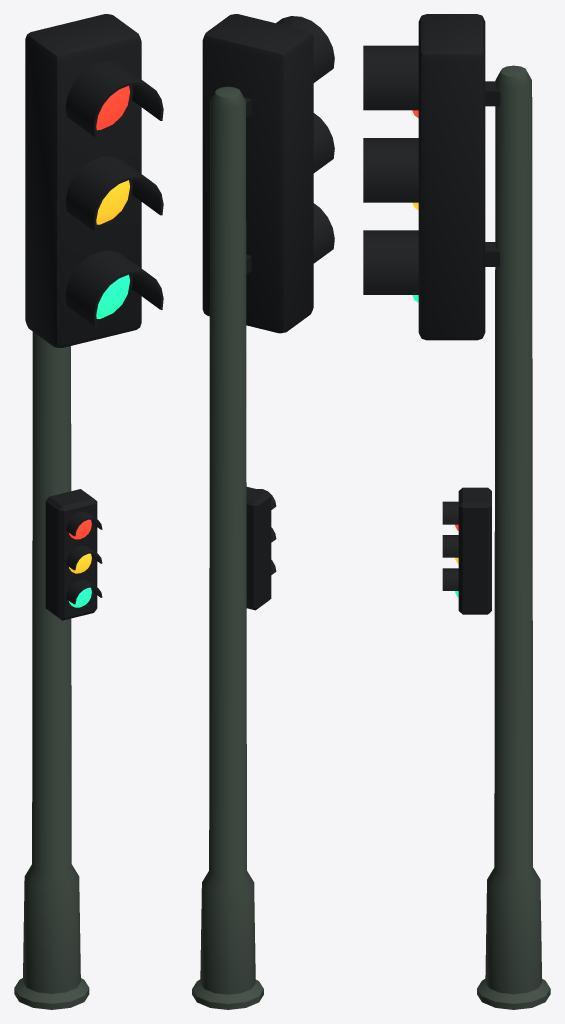
The model's file is traffic-light.glb.
The picture shows the model from 3 angles, left to right: view 1: azimuth 30°, elevation 25°; view 2: azimuth 150°, elevation 25°; view 3: azimuth 270°, elevation 25°; orthographic projection. The views are drawn at different scales.
Parts seen in each view (by area): view 1: traffic-light; view 2: traffic-light; view 3: traffic-light.
Boxes of the visible parts, bbox=[...] form: traffic-light: bbox=[14, 14, 163, 1009]; traffic-light: bbox=[192, 14, 334, 1009]; traffic-light: bbox=[363, 14, 550, 1009].
Size of the model in its own units: 0.3 by 3.18 by 0.56.
